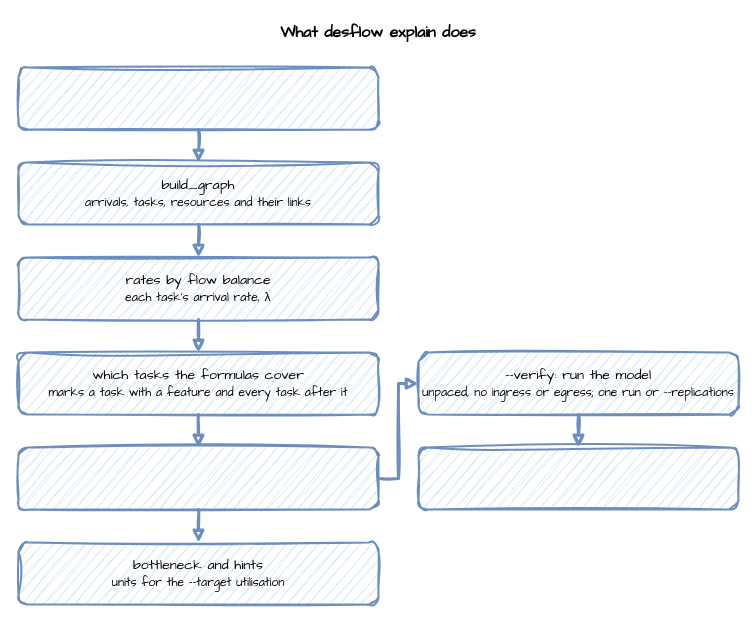
Some shapes in this 756 by 622 pixel diagram are drawn without their labels. Each missing label, with the centre of its shape:
compare ρ, Lq, Wq and λ: within 10% for one run, or the 95% interval or 1%: point 578,478
each resource: ρ, status, wait Kingman or Erlang C where one applies: point 198,478
load_context YAML or a builder file; nothing runs: point 198,98
